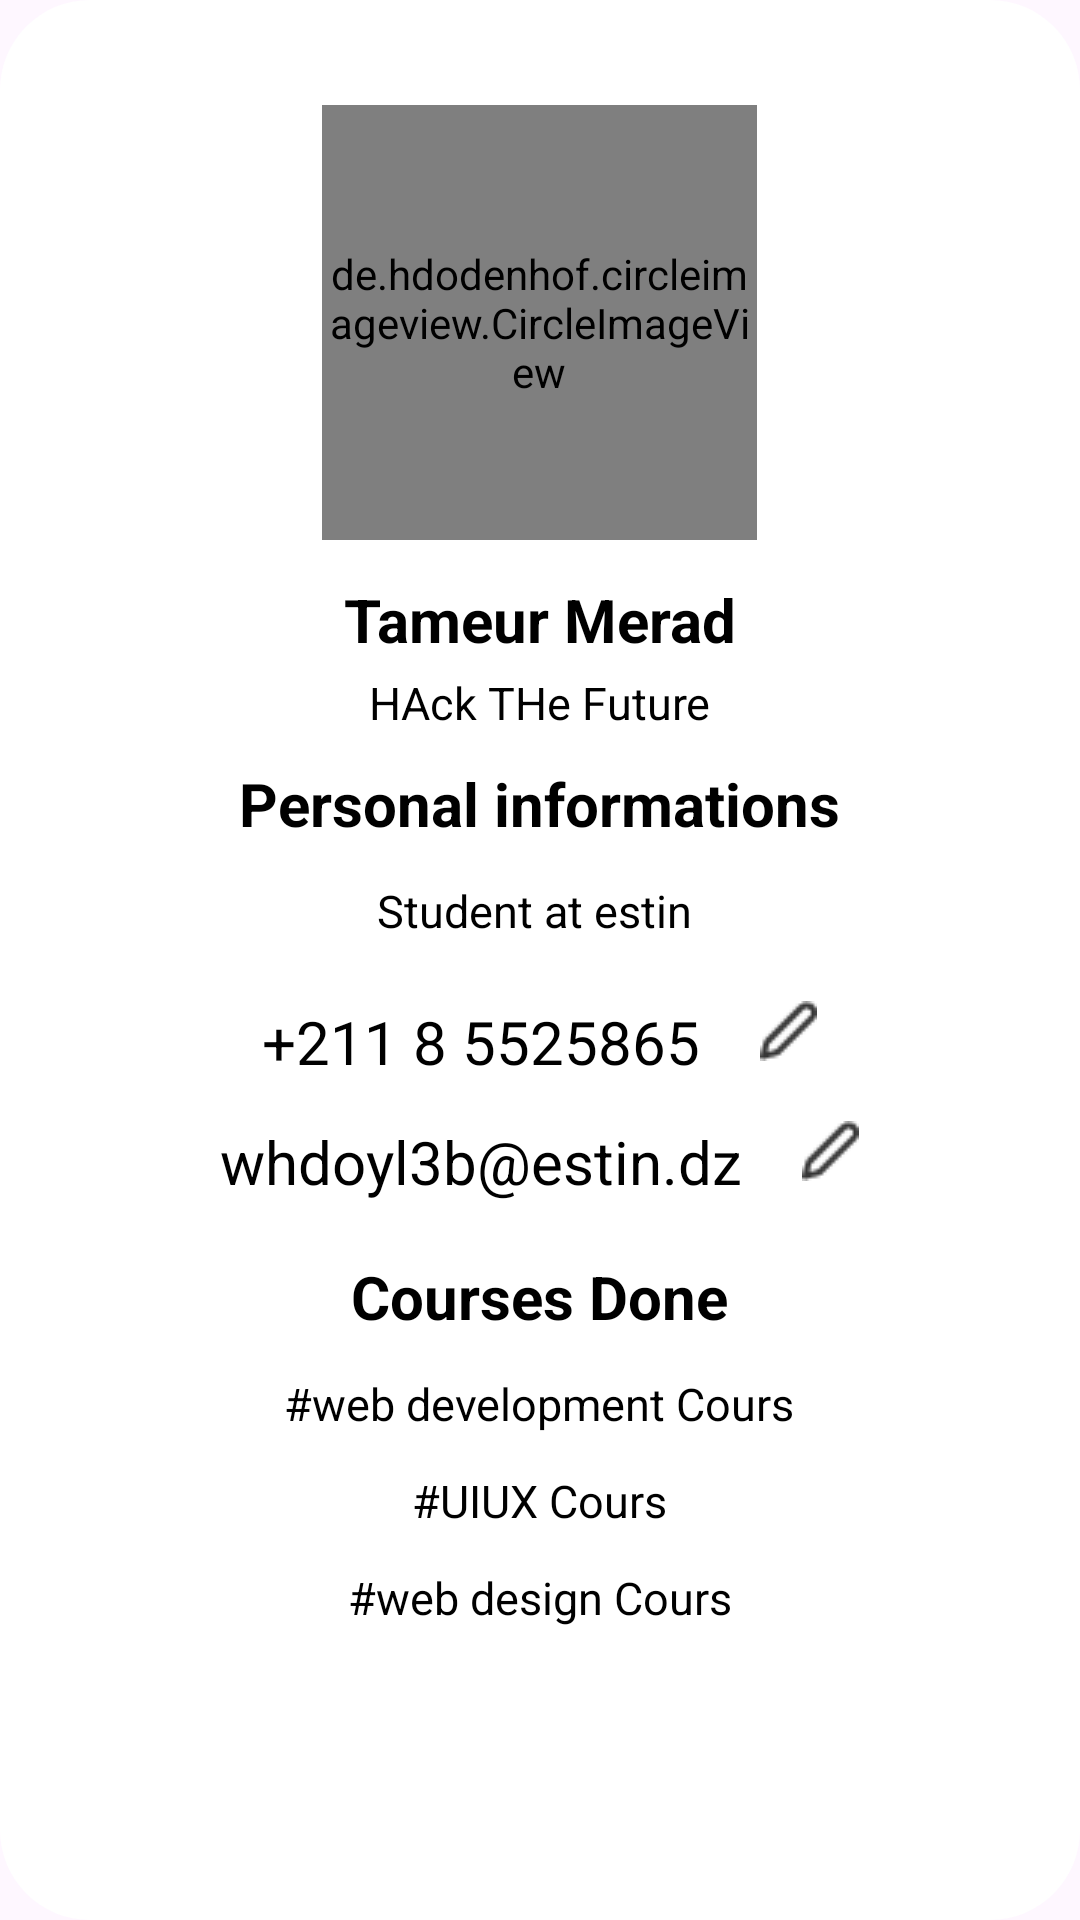

Screen size 1080×1920. Icon name, then its box in pixels as [left=x1, top=y1, right=x2, bottom=y2]:
pen: [left=760, top=1001, right=817, bottom=1061], [left=802, top=1121, right=859, bottom=1181]
